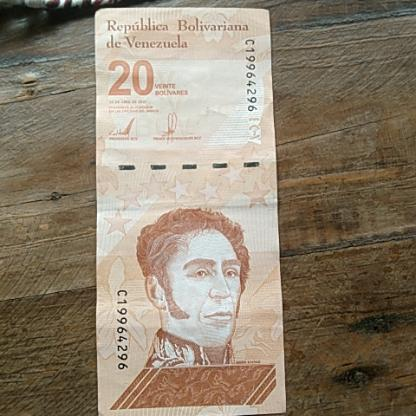twenty-front-vef: (95, 4, 286, 416)
